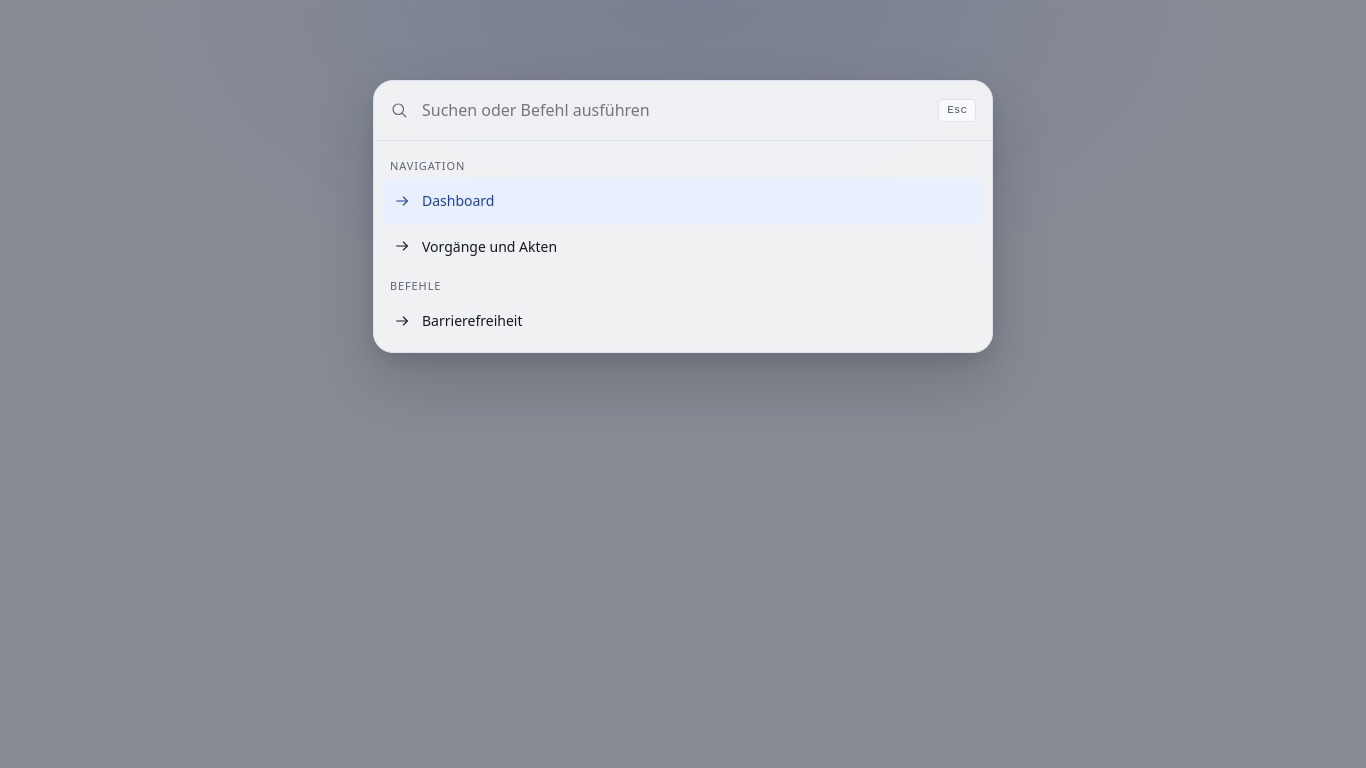
it: CommandPalette › shows an explanatory empty state
Type "zzz" into the dropdown at (673,110), box [420, 97, 926, 124]
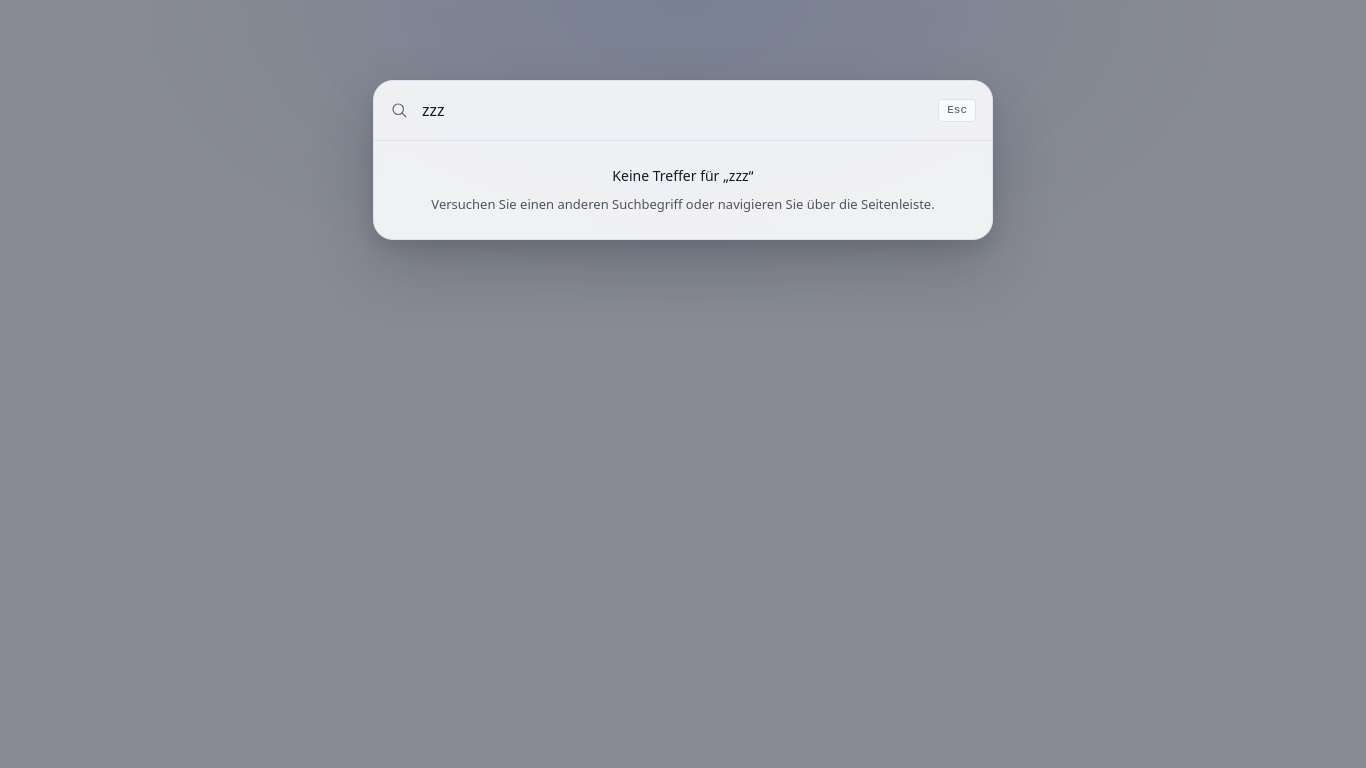
Check: the text "Keine Treffer für „zzz“" is shown, box [612, 166, 754, 185]
Check: no options are shown
